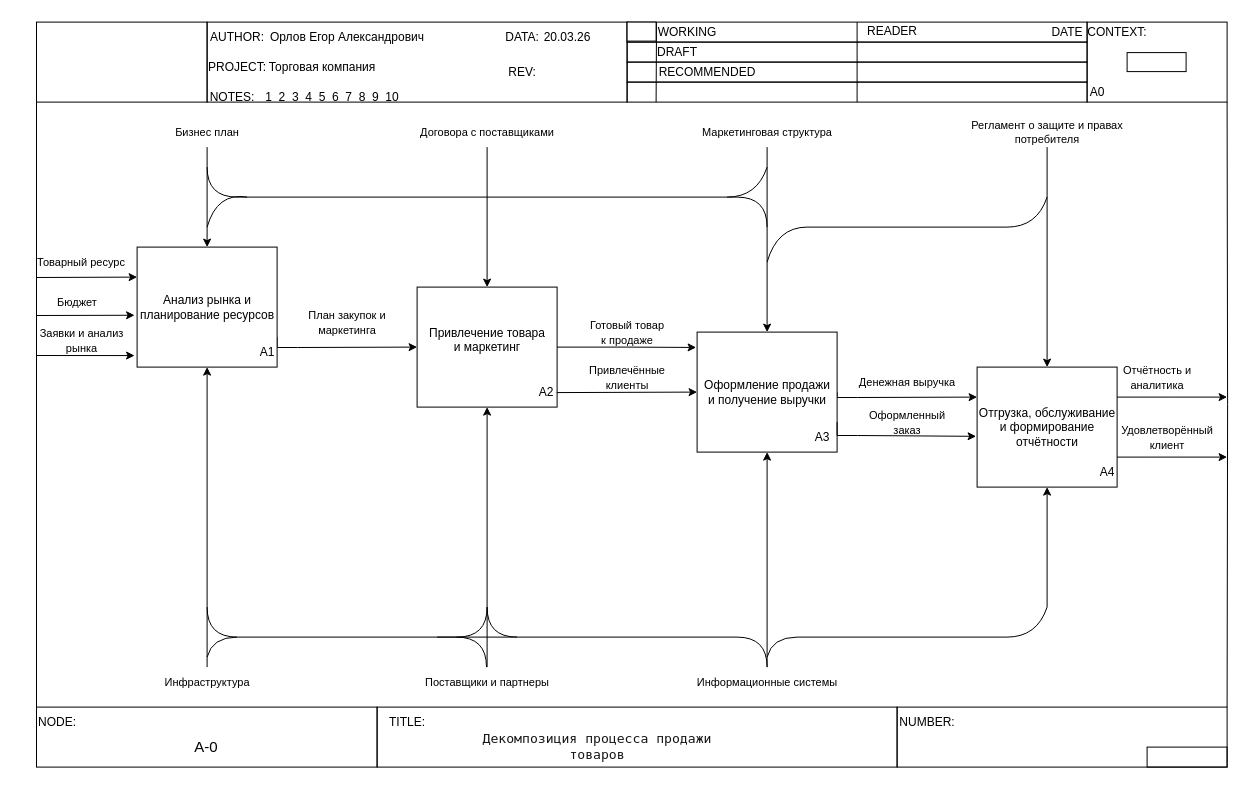
The diagram is 1253 pixels wide and 785 high, and some of its shapes have lost their labels. Here are the shapes that lost their labels. From the top down, the centre of each, then its label:
At pixel 121 61: "USED AT:".
At pixel 856 91: "PUBLICATION".
